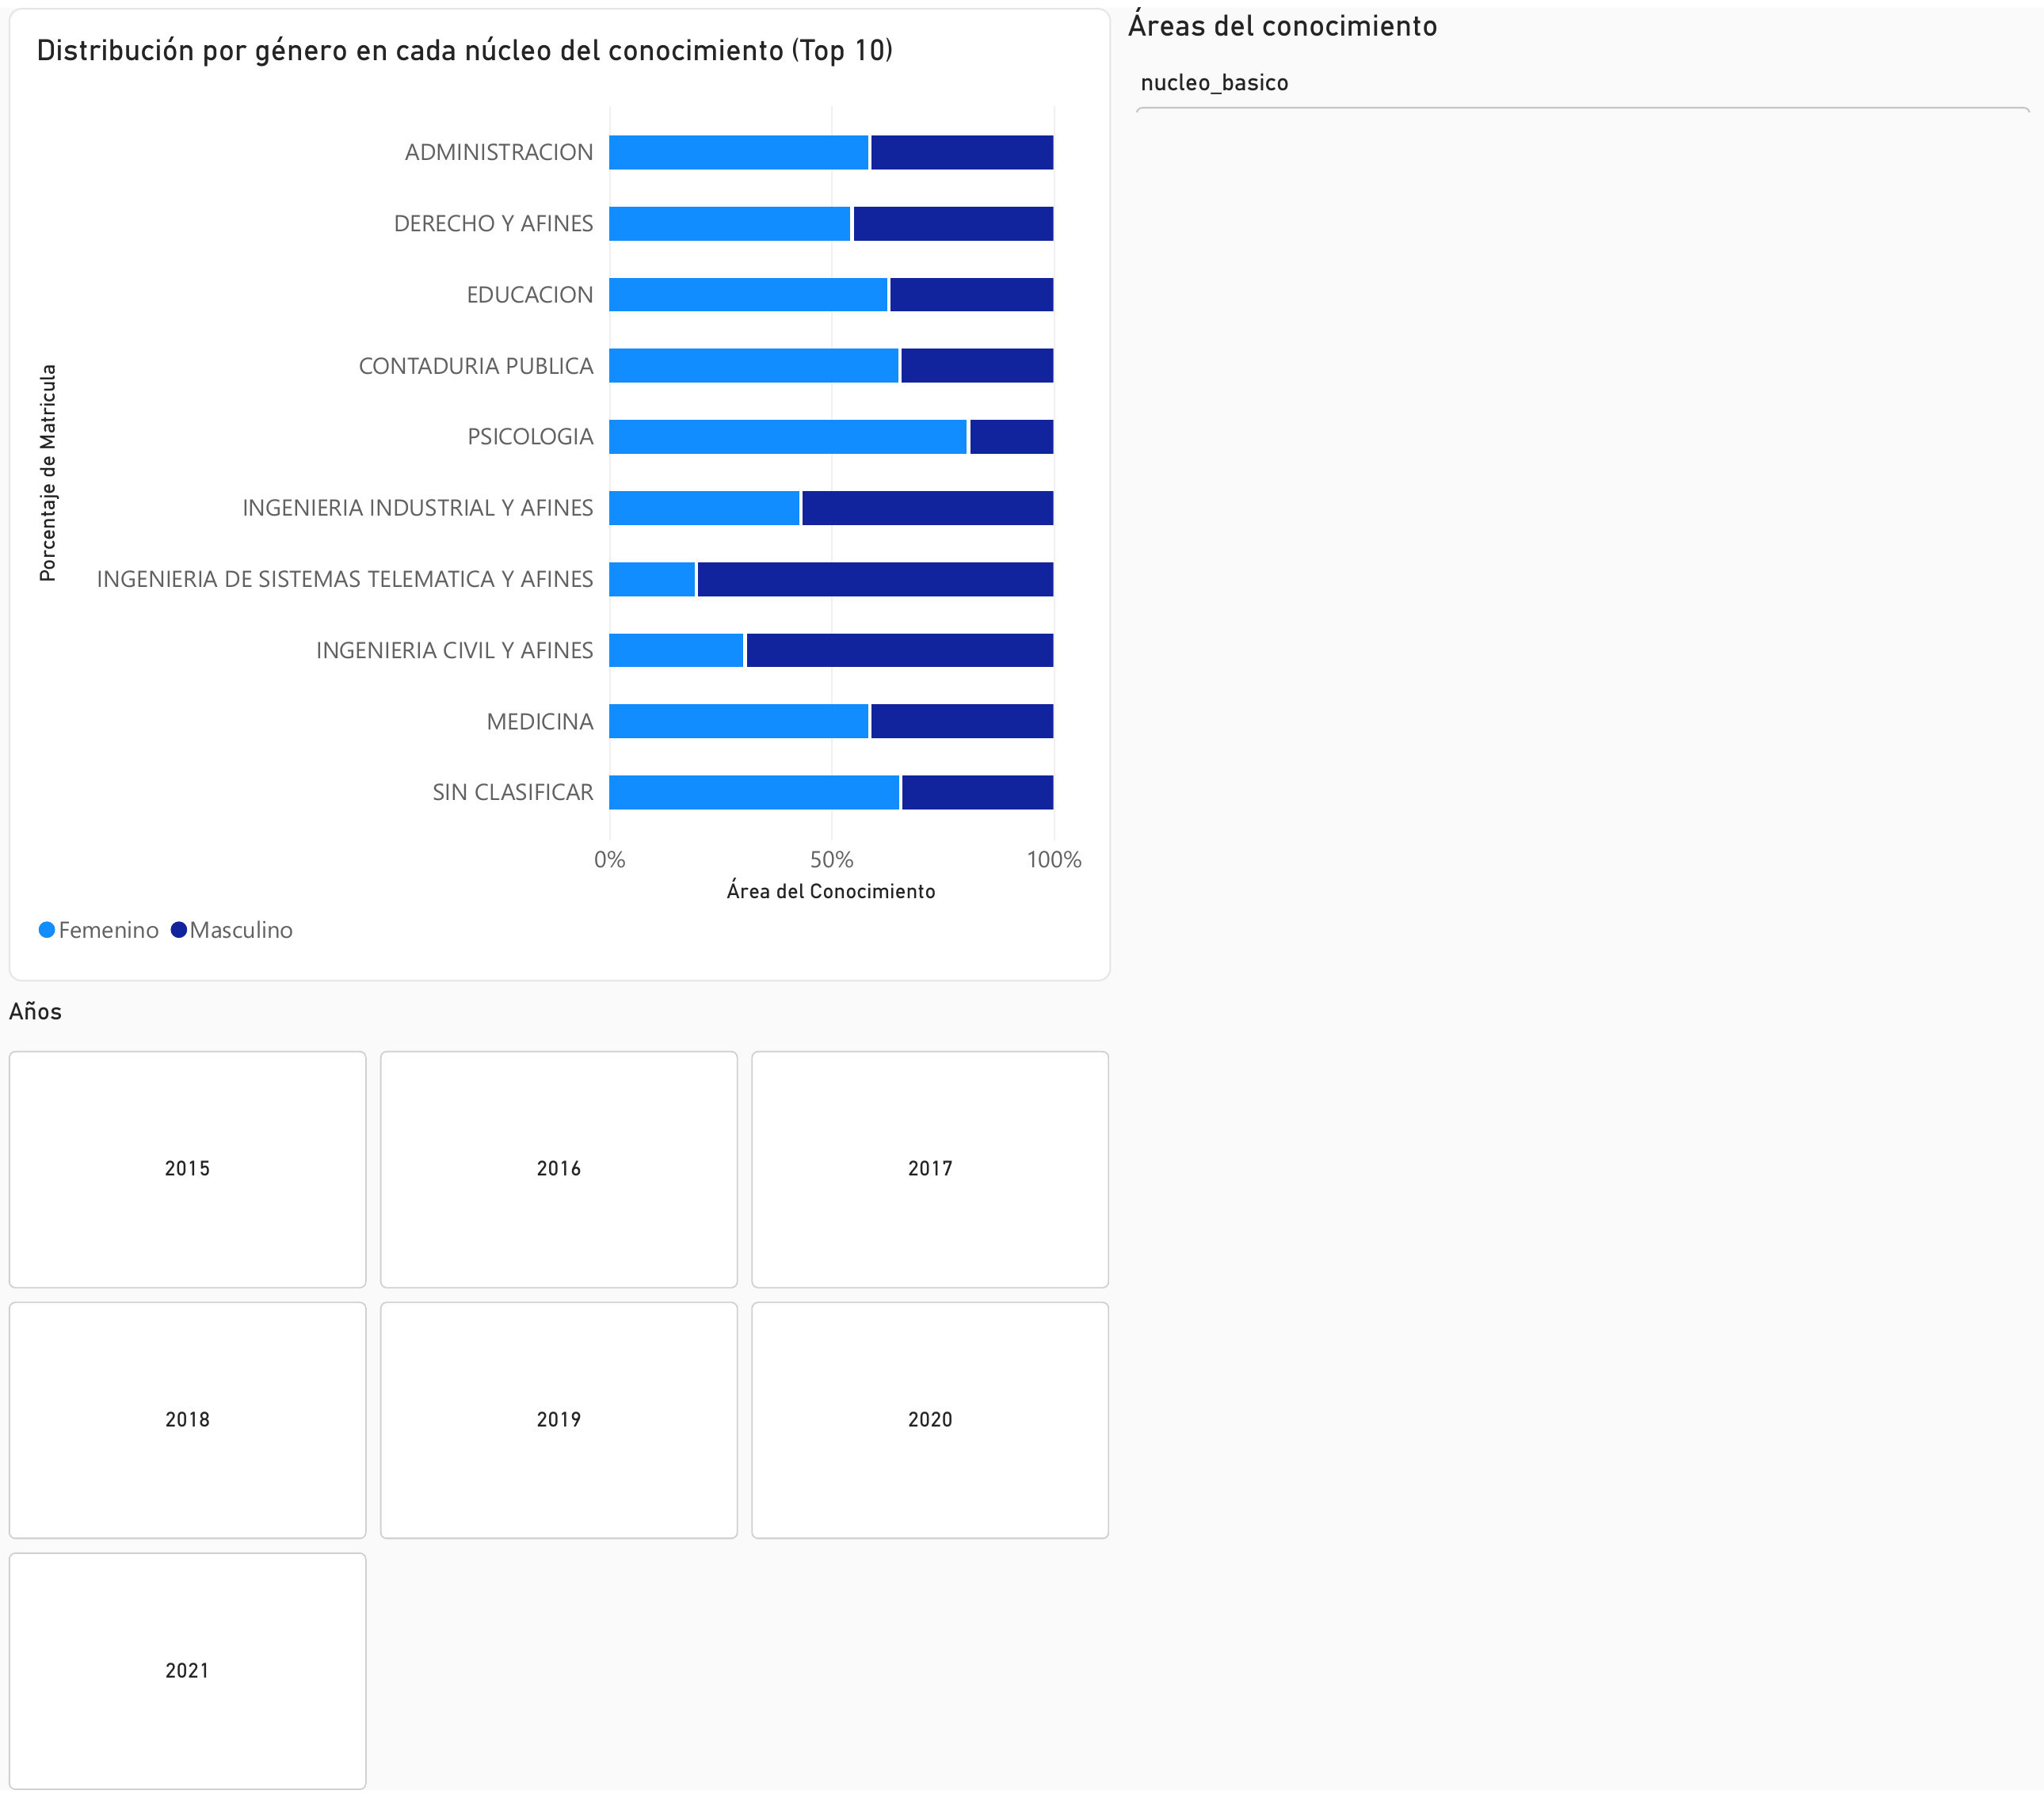

Layout of this report page (visuals, bound fields, positions):
{"tool":"powerbi","page":{"name":"Género y Áreas","canvas":[1920,1080],"ordinal":2},"visuals":[{"type":"hundredPercentStackedBarChart","title":"Distribución por género en cada núcleo del conocimiento (Top 10)","fields":{"Category":["dim_programa.nucleo_basico"],"Series":["dim_genero.descripcion_genero"],"Y":["fact_matricula.Matricula_S1"]},"box":[10,0,667.5,590],"z":0},{"type":"advancedSlicerVisual","title":"Años","fields":{"Values":["dim_tiempo.anio"]},"box":[10,600,668,480],"z":1},{"type":"slicer","title":"Áreas del conocimiento","fields":{"Values":["dim_programa.nucleo_basico"]},"box":[687.5,0,552.5,62.5],"z":2}]}

Visuals, with their boxes on the page's 1920x1080 design canvas (x1, y1, x2, y2). These are canvas units, not pixel positions in the 2044x1798 screenshot, which may show the page scaled, cropped or inside an application window:
"Distribución por género en cada núcleo del conocimiento (Top 10)" hundredPercentStackedBarChart: locate(10, 0, 678, 590)
"Años" advancedSlicerVisual: locate(10, 600, 678, 1080)
"Áreas del conocimiento" slicer: locate(688, 0, 1240, 62)
